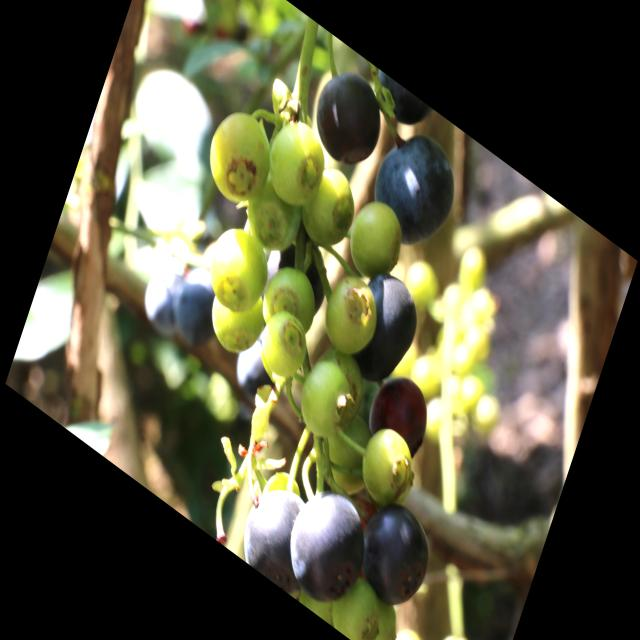blueberry: (364, 114, 464, 261), (283, 476, 374, 616), (353, 493, 435, 623), (234, 471, 316, 594), (347, 266, 422, 396), (310, 59, 390, 179), (254, 231, 330, 321), (168, 259, 231, 357), (227, 329, 286, 421), (137, 264, 193, 348)
blueberry-halfripe: (368, 364, 439, 465)
blueberry-unripe: (197, 95, 279, 220), (201, 212, 277, 324), (260, 108, 330, 216), (202, 268, 274, 368), (342, 186, 409, 286), (318, 263, 383, 363), (299, 159, 363, 259), (256, 256, 324, 350), (356, 419, 422, 513), (294, 353, 356, 448), (262, 306, 314, 382)
